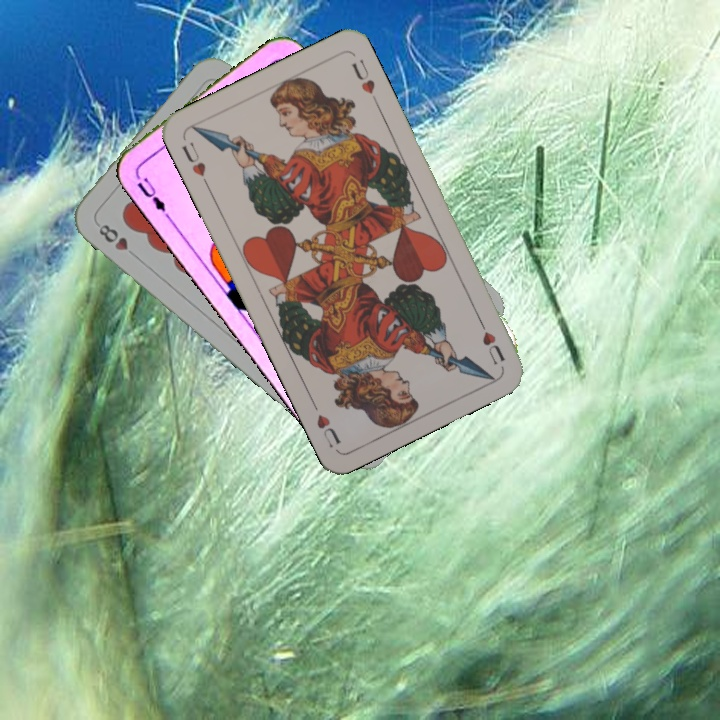EU: (133, 173, 173, 221)
H8: (94, 220, 141, 262)
HU: (473, 313, 508, 368), (178, 137, 212, 190)
